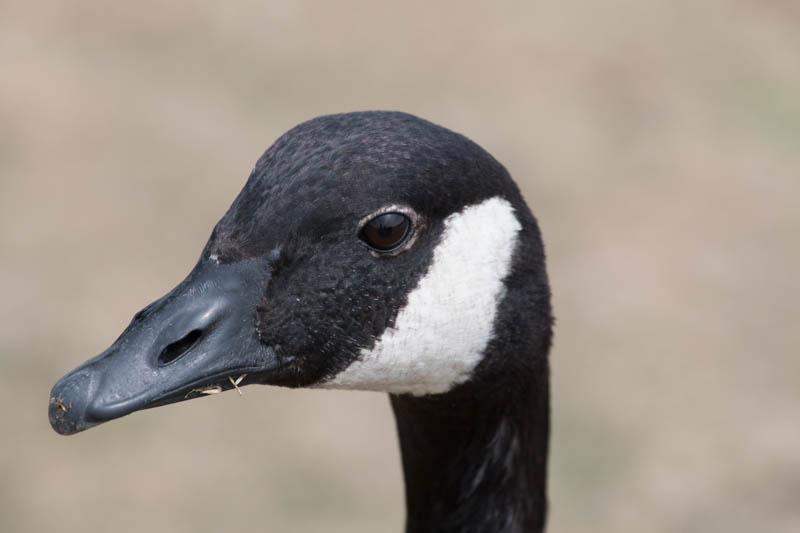goose-head: (50, 110, 552, 437)
